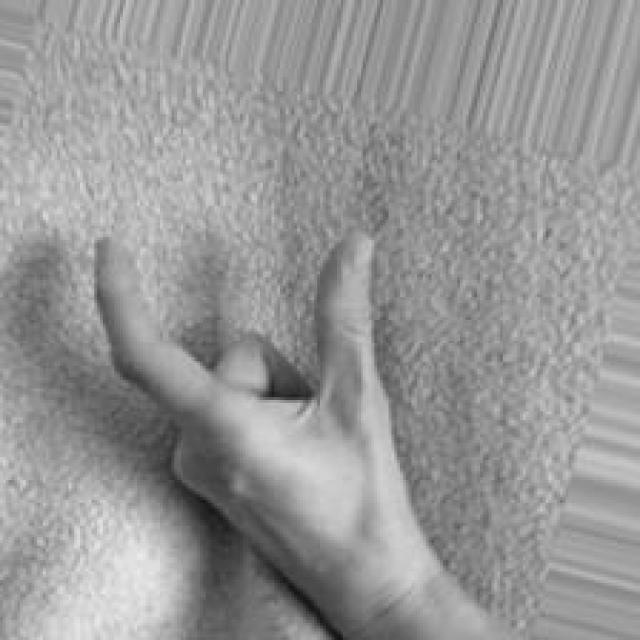U: (84, 224, 450, 640)
